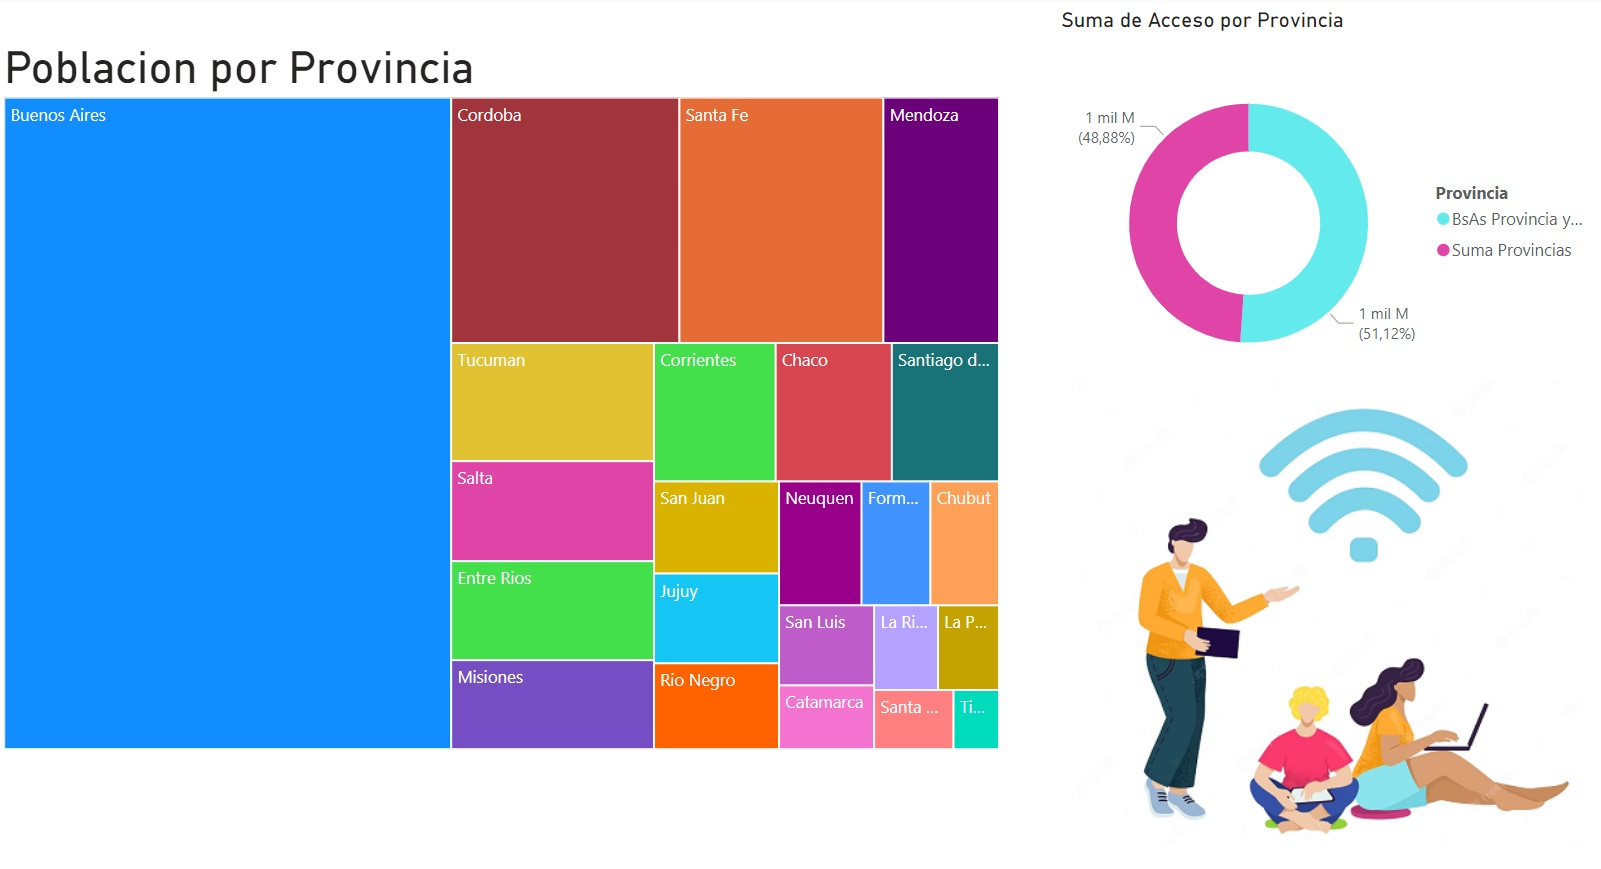

This screenshot's page, from the dashboard's own definition file:
{"tool":"powerbi","page":{"name":"Página 4","canvas":[1280,720],"ordinal":2},"visuals":[{"type":"donutChart","fields":{"Y":["Sum(BSmenosElPais.Acceso)"],"Series":["BSmenosElPais.Provincia"]},"box":[843.7,8,436.6,325.7],"z":1000},{"type":"image","box":[844.4,300.2,435.6,380.4],"z":1001},{"type":"treemap","fields":{"Group":["todoPorProvincias.Provincia"],"Values":["Min(todoPorProvincias.Poblacion)"]},"box":[0,34.3,803.8,570.7],"z":1002}]}

Visuals, with their boxes on the page's 1280x720 design canvas (x1, y1, x2, y2). These are canvas units, not pixel positions in the 1601x869 screenshot, which may show the page scaled, cropped or inside an application window:
donutChart - Sum(BSmenosElPais.Acceso) x BSmenosElPais.Provincia: [x1=844, y1=8, x2=1280, y2=334]
image: [x1=844, y1=300, x2=1280, y2=681]
treemap - todoPorProvincias.Provincia x Min(todoPorProvincias.Poblacion): [x1=0, y1=34, x2=804, y2=605]
